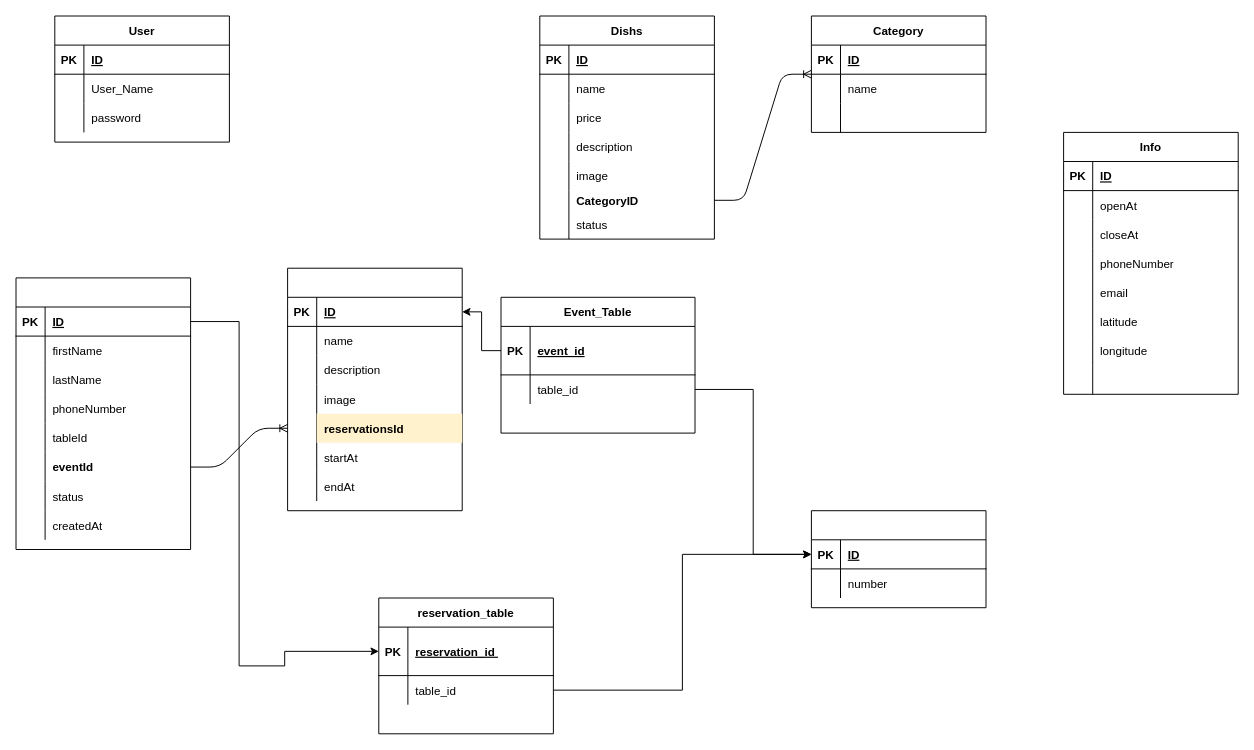
Image size: 1254x750. Some labels were removed from this diagram. The shapes that lost their labels are listed below. From the top down, each one's box as (x1, y1, x2, y2) in pixels, then its label:
(287, 267, 462, 511): Event
(15, 277, 191, 550): Reservation
(810, 510, 986, 608): Table
